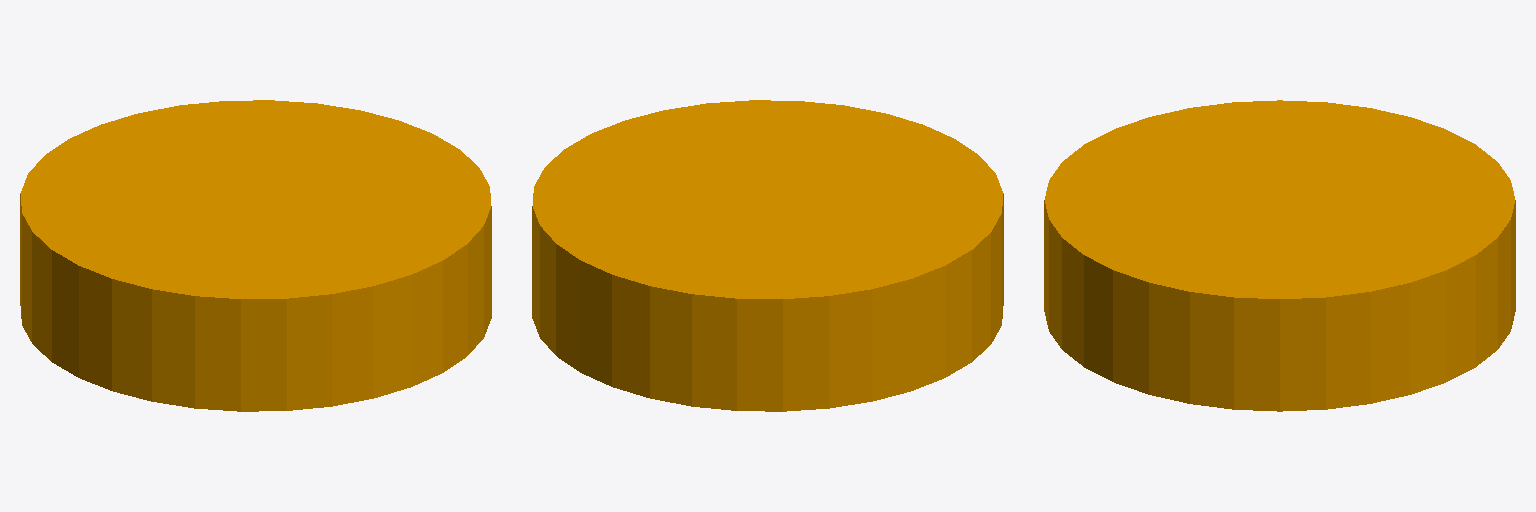
URDF robot description (2v2_mod_cylinder_large):
<?xml version="1.0" ?>
<robot name="2v2_mod_cylinder_large">

    <link name="2v2_mod_cylinder_large">
        <visual>
            <origin rpy="1.5707963267948966 0 0" xyz="0 0 0"/>
            <geometry>
                <mesh filename="obj_files/2v2_mod_cylinder_large.obj" scale="1 1 1"/>
            </geometry>
        </visual>
        <collision>
            <geometry>
                <mesh filename="obj_files/2v2_mod_cylinder_large_collision.obj" scale="1 1 1"/>
            </geometry>
        </collision>
    </link>

</robot>

--- Facts derived from the render (not from the file) ---
The picture shows the robot from 3 angles, left to right: view 1: azimuth 30°, elevation 25°; view 2: azimuth 150°, elevation 25°; view 3: azimuth 270°, elevation 25°; orthographic projection.
Robot: 2v2_mod_cylinder_large — 1 links, 0 joints (none); root link 2v2_mod_cylinder_large; default pose: every joint at zero.
Visible links, largest first — view 1: 2v2_mod_cylinder_large; view 2: 2v2_mod_cylinder_large; view 3: 2v2_mod_cylinder_large.
Link boxes in pixels (x1,y1,x2,y2): 2v2_mod_cylinder_large: (20,100,491,411); 2v2_mod_cylinder_large: (532,100,1003,411); 2v2_mod_cylinder_large: (1044,100,1515,411).
Bounding box of the posed robot: 0.3652 × 0.3652 × 0.096 m (x, y, z).
Meshes: 1 distinct files referenced, 1 mesh visuals loaded (1 OBJ).